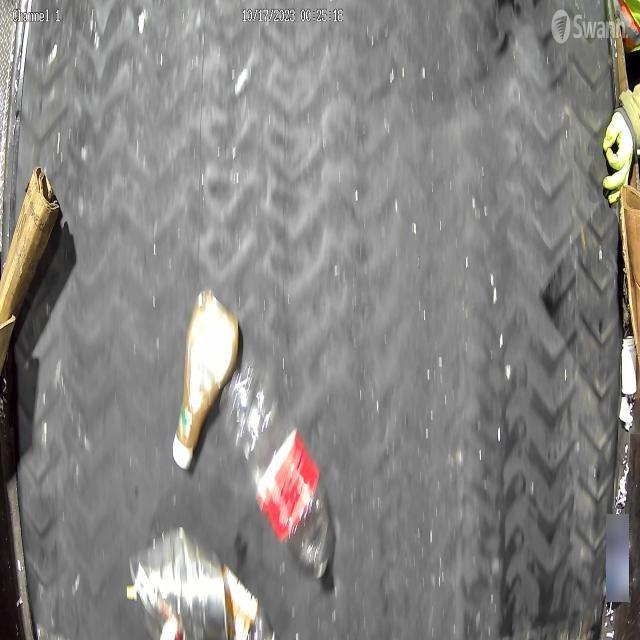plastic_bottle: (225, 363, 333, 577)
